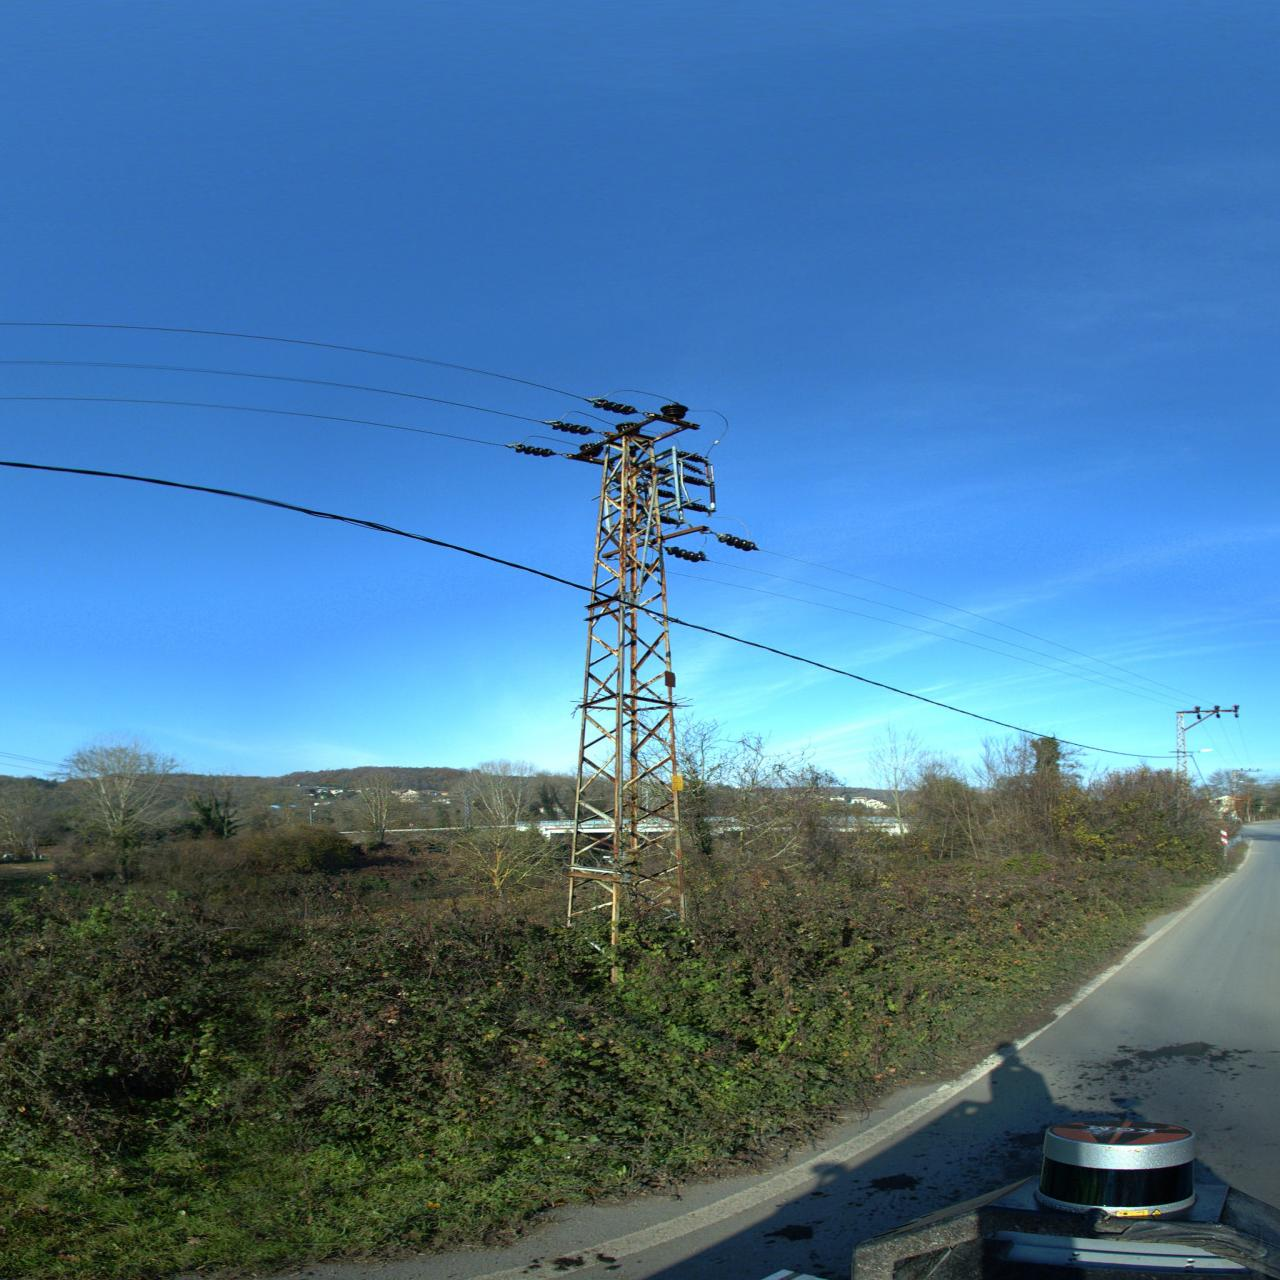Utility Pole Information Plate: (666, 670, 676, 688)
